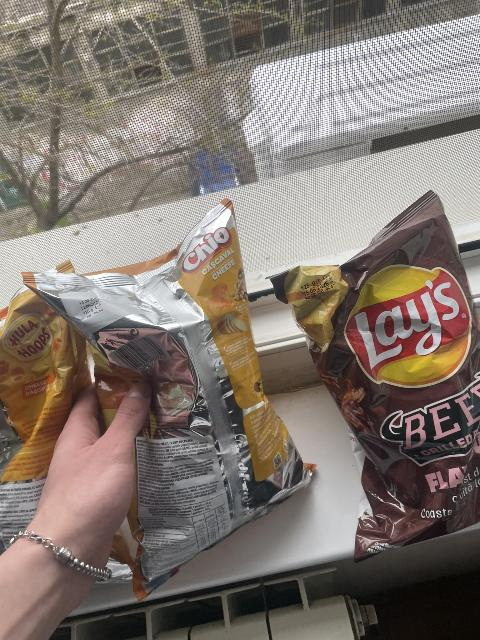Chio Cascaval 125g: (20, 194, 315, 595)
Chio Hula Hoops Cheese 70g: (1, 262, 82, 559)
Lays Beef Grilled Ribs 125g: (264, 192, 480, 563)
